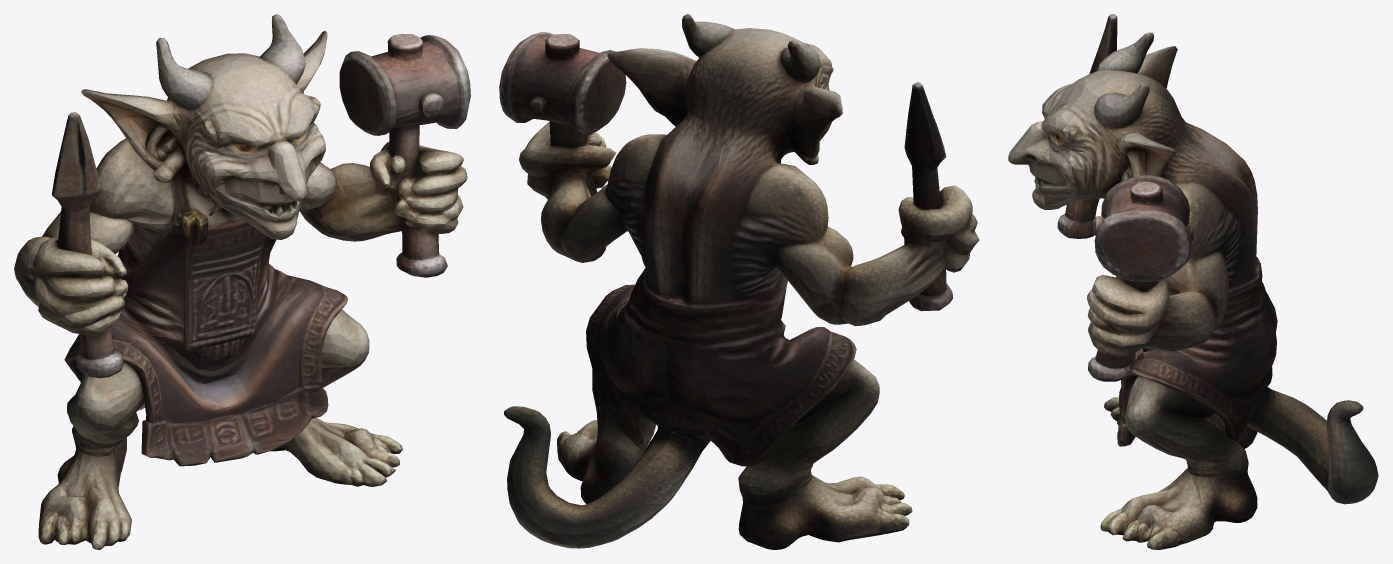
The model's file is chiselImp.glb.
The picture shows the model from 3 angles, left to right: view 1: azimuth 30°, elevation 25°; view 2: azimuth 150°, elevation 25°; view 3: azimuth 270°, elevation 25°; orthographic projection. The views are drawn at different scales.
Visible parts, largest first — view 1: world; view 2: world; view 3: world.
Boxes of the visible parts, x1,y1,x2,y2 form: world: (14,14,470,549); world: (499,14,979,549); world: (1008,14,1378,549).
Bounding box in the file's own units: 0.9682 × 1 × 0.7962.
Materials: 1 (1 with a texture image).
